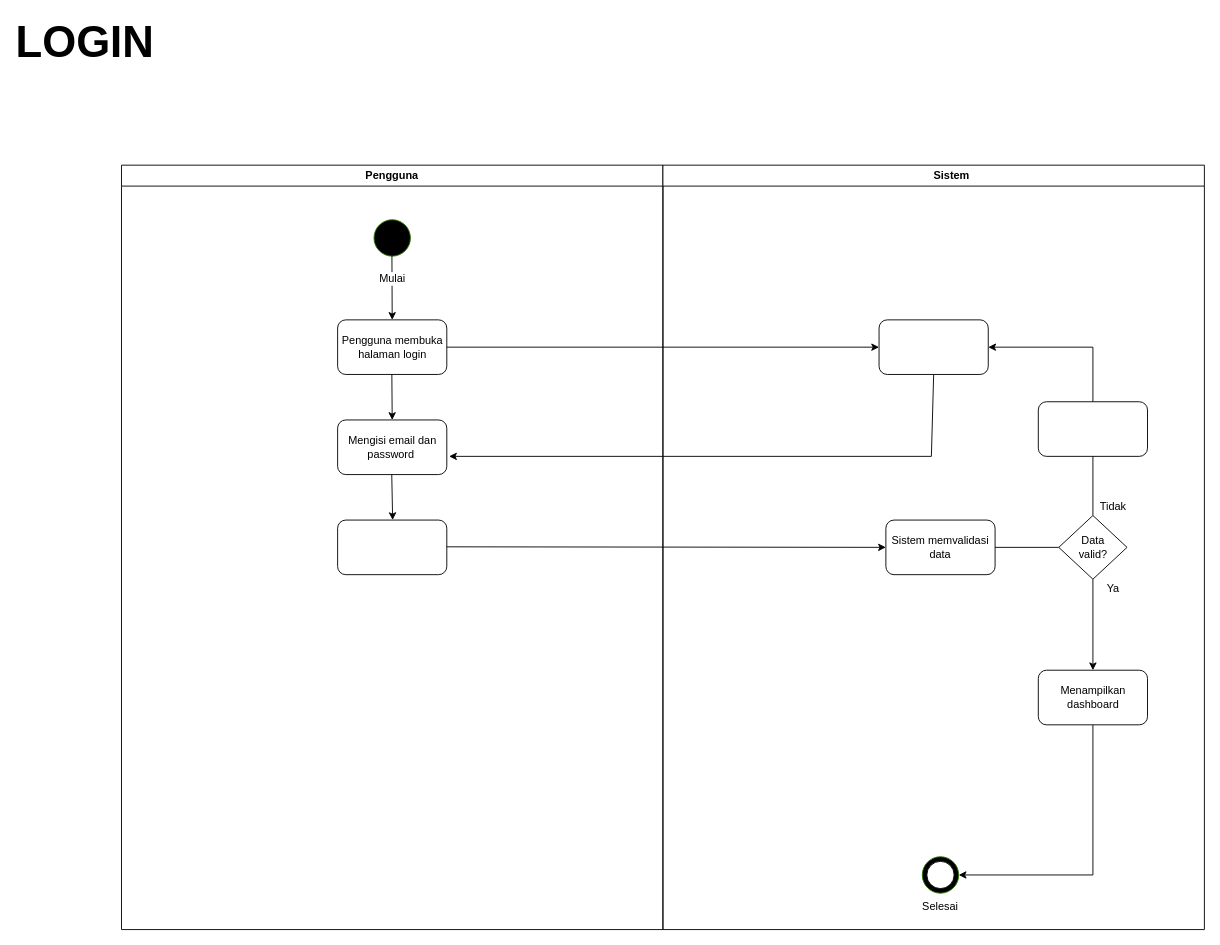
Image size: 1220x945. Some labels were removed from this diagram. Here are the shapes that lost their labels. From the top down, the centre of each, then its label:
At point 933,346: "Menampilkan form login".
At point 1092,428: "Menampilkan pesan error".
At point 392,547: "Menekan tombol login".
